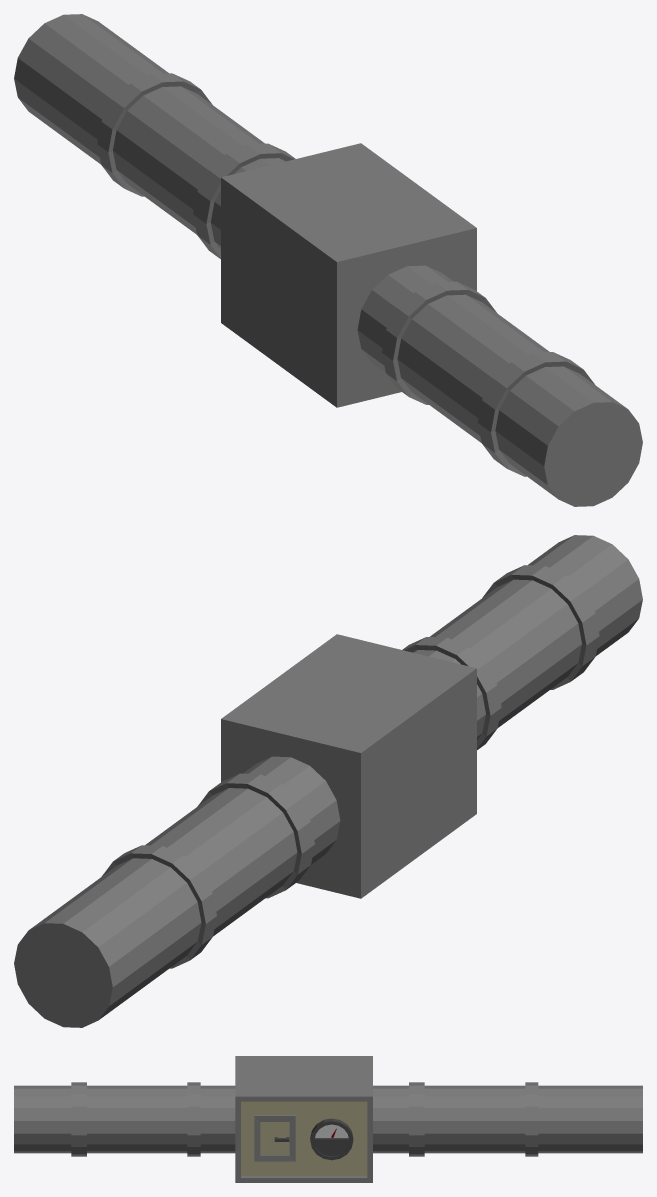
The model's file is PipeThingy.glb.
3 renders of one model, top to bottom at view 1: azimuth 30°, elevation 25°; view 2: azimuth 150°, elevation 25°; view 3: azimuth 270°, elevation 25°, orthographic. The views are drawn at different scales.
Parts seen in each view (by area): view 1: pipeThingy; view 2: pipeThingy; view 3: pipeThingy.
Boxes of the visible parts, left/top/right/bottom form: pipeThingy: left=14, top=14, right=642, bottom=506; pipeThingy: left=14, top=535, right=642, bottom=1027; pipeThingy: left=14, top=1056, right=642, bottom=1182.
Size of the model in its own units: 0.8015 by 0.7772 by 5.13.
